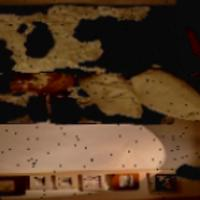asleep: (8, 72, 76, 97)
